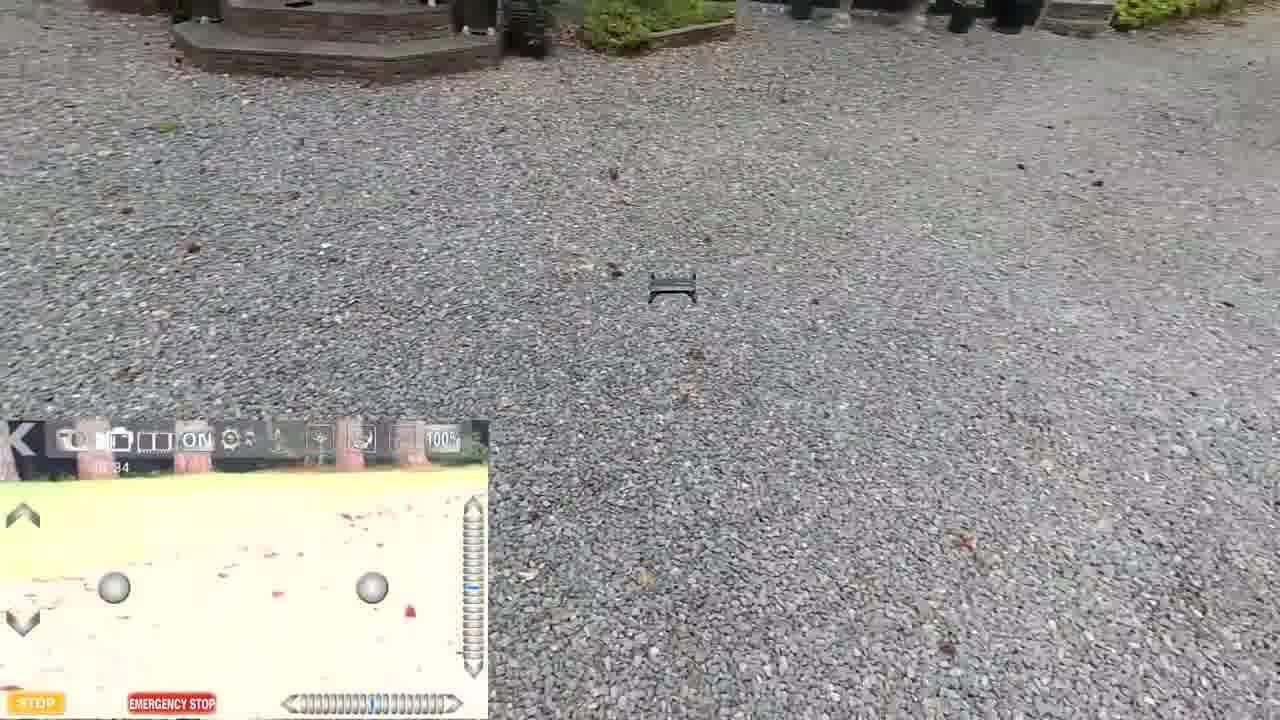drone: (640, 258, 703, 318)
